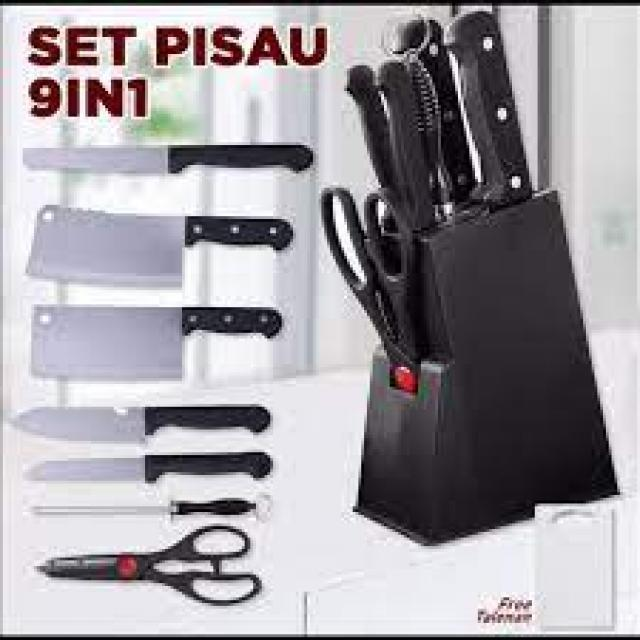knife: (25, 138, 297, 526)
